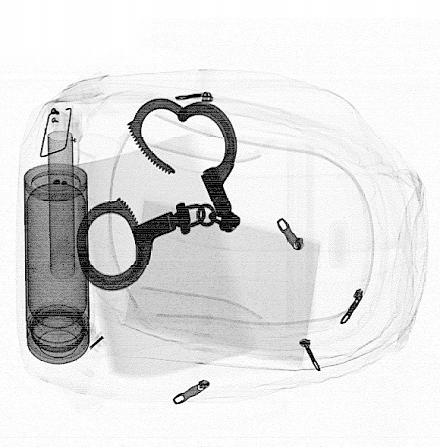HandCuffs: (75, 97, 241, 293)
